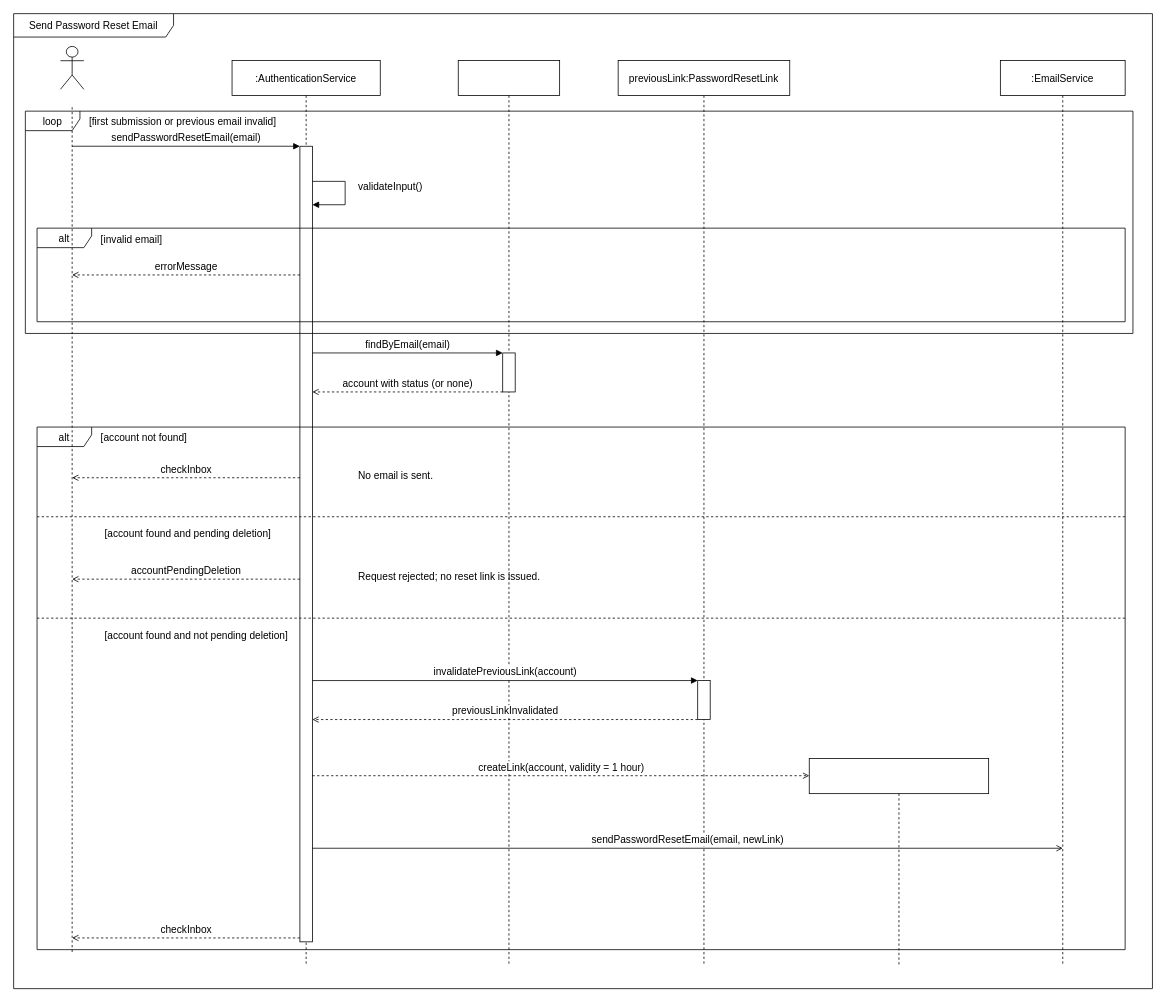
The diagram is 1166 pixels wide and 1002 high, and some of its shapes have lost their labels. The centre of each missing label's shape, as x and y in pixels:
:Account: the point at 508,78
newLink:PasswordResetLink: the point at 898,776
User: the point at 72,67
